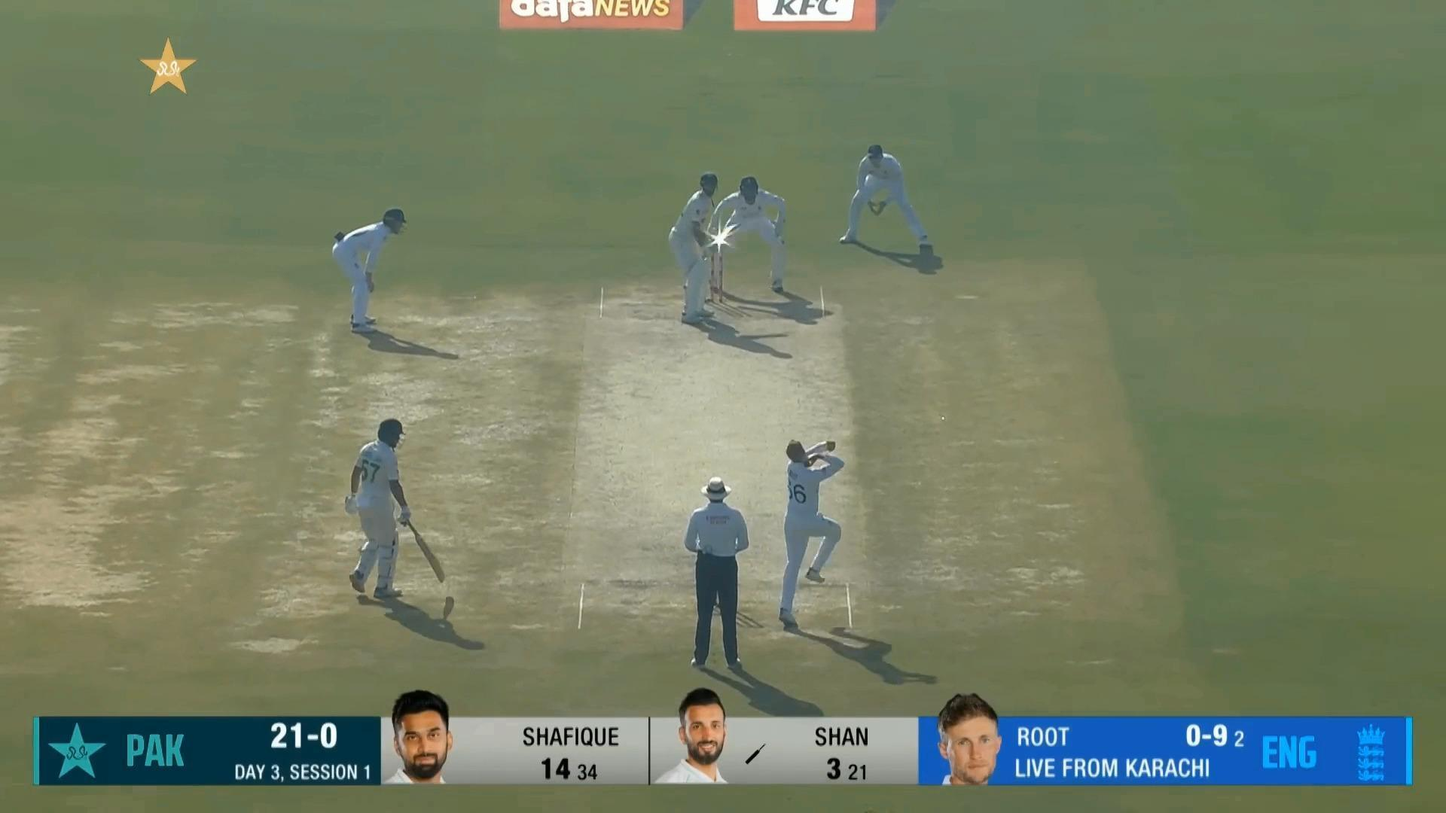BM 1: (668, 172, 740, 324)
BO: (777, 437, 846, 629)
